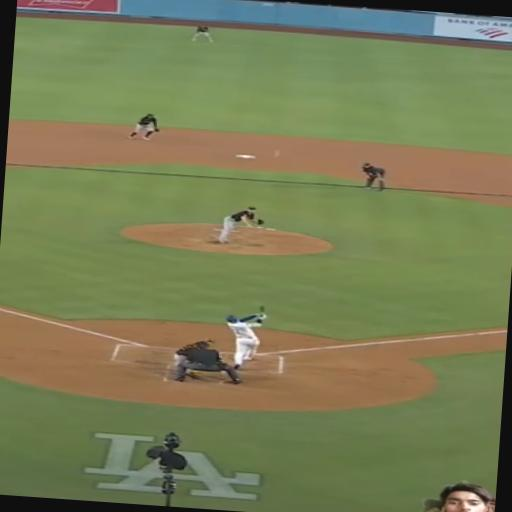bat: (260, 306, 266, 313)
